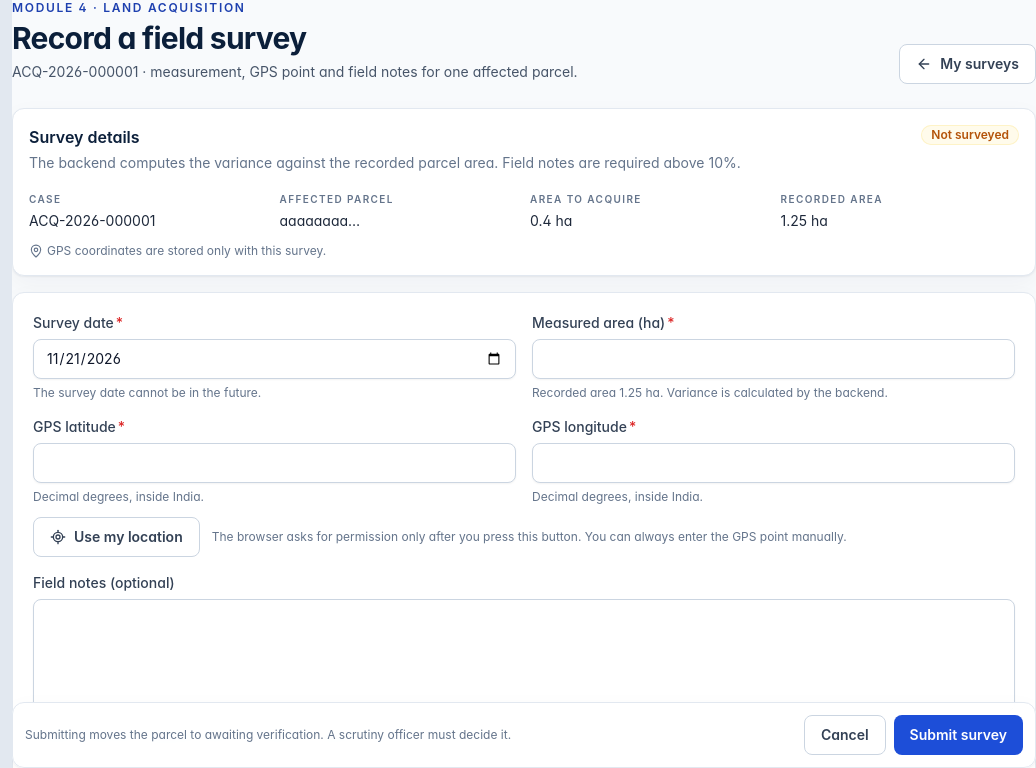
Test: acquisition survey entry › requires field notes when the measured area differs by more than 10%
expect the heading "Survey details" is shown: met, box [29,127,140,147]
Type "0.5" into the field labelled "Measured area (ha)*".
click(774, 359); type("0.5")  # box [532,339,1015,379]
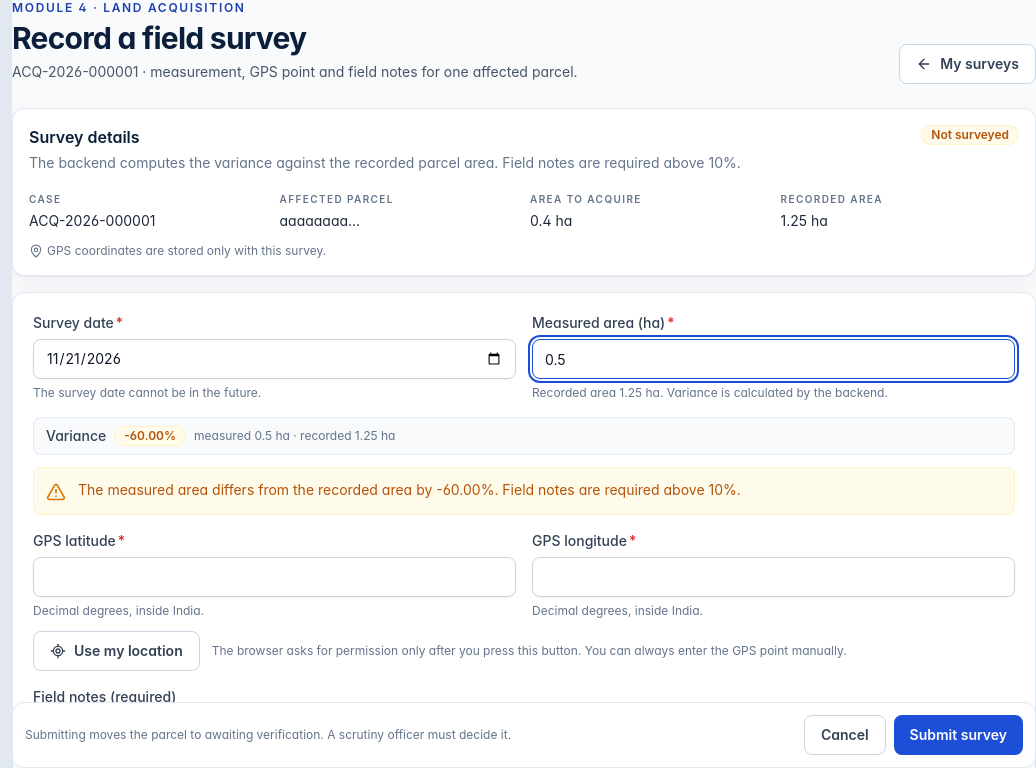
Type "18.52" into the field labelled "GPS latitude*".
click(274, 577); type("18.52")  # box [33,557,516,597]
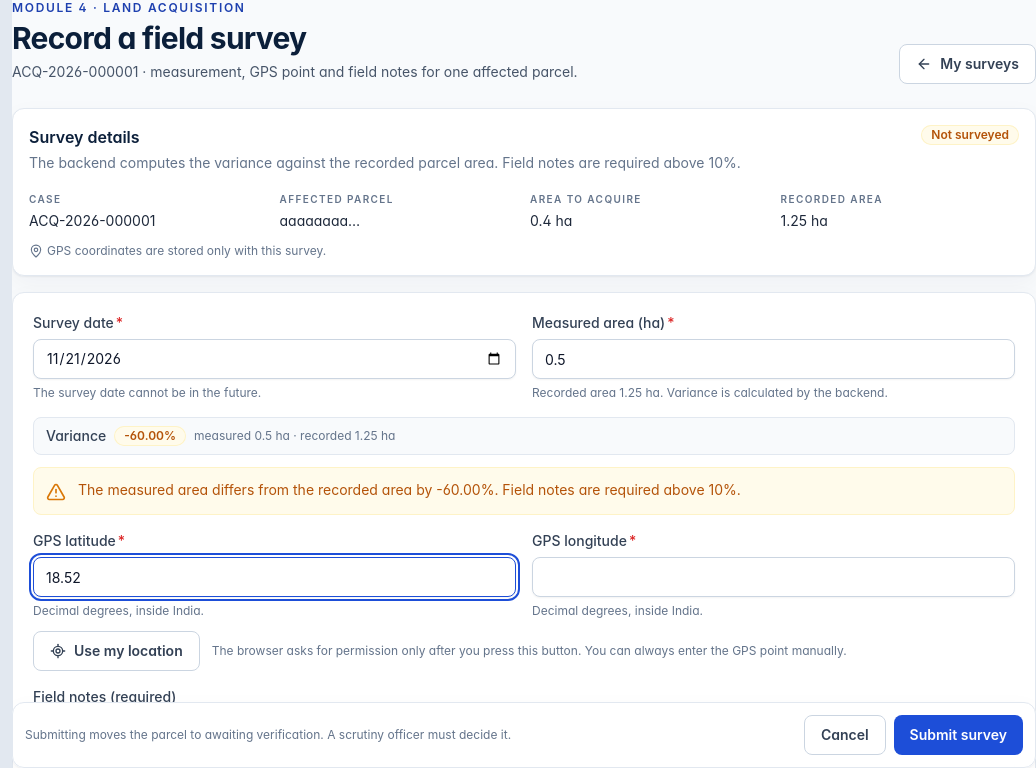
Type "73.85" into the field labelled "GPS longitude*".
click(774, 577); type("73.85")  # box [532,557,1015,597]
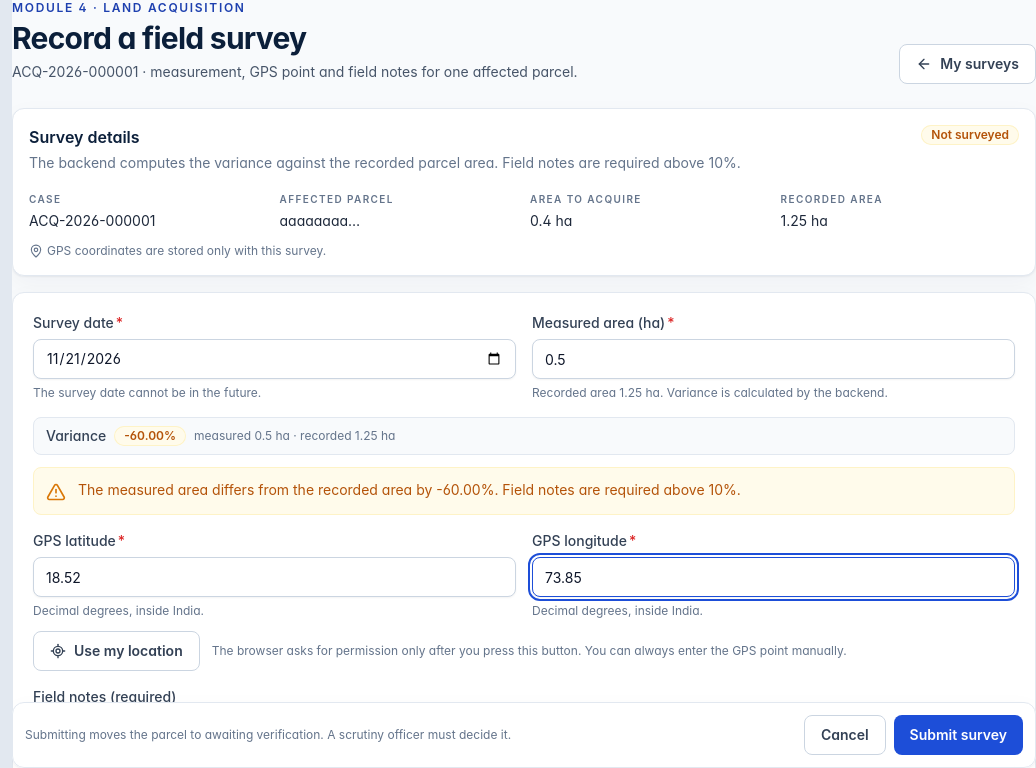
Click the button "Submit survey".
click(958, 735)  # box [894,715,1023,755]
(page scrolled)
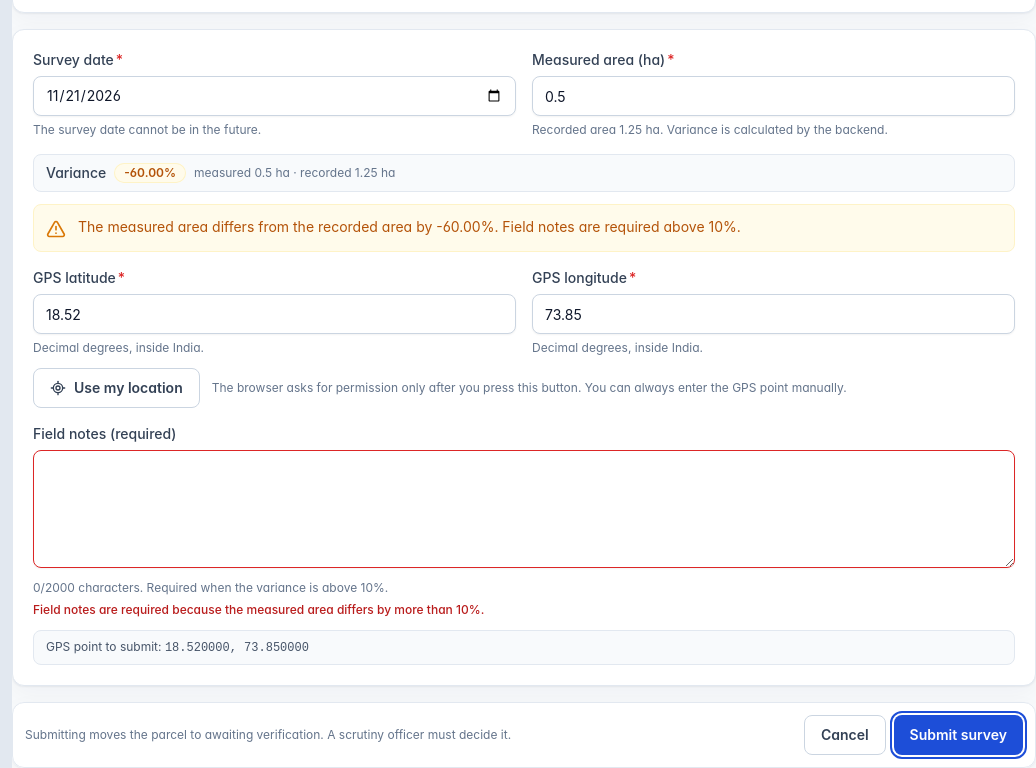
expect the text "Field notes are required because the measured area differs by more than 10%." is shown: met, box [33,602,484,617]
